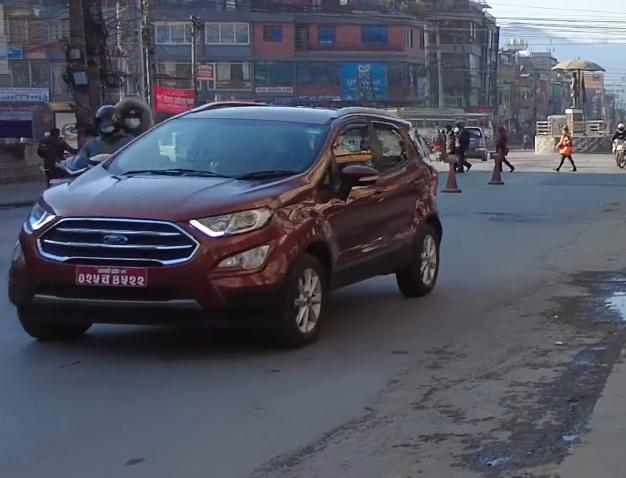car: (5, 96, 444, 349)
